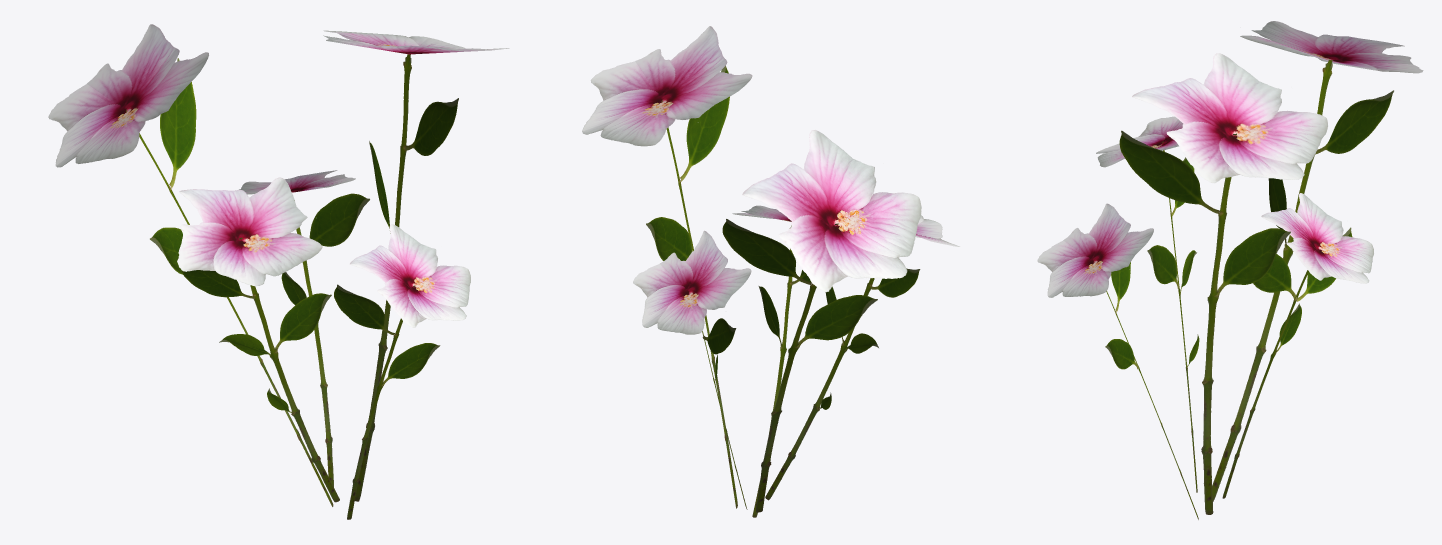
Rendered from WhiteFlower.fbx.
3 views of the same model, side by side, from view 1: azimuth 30°, elevation 25°; view 2: azimuth 150°, elevation 25°; view 3: azimuth 270°, elevation 25° (orthographic). The views are drawn at different scales.
Visible parts, largest first — view 1: Leaf6.002; view 2: Leaf6.002; view 3: Leaf6.002.
Boxes of the visible parts, x1=… form: Leaf6.002: x1=48, y1=24, x2=509, y2=519; Leaf6.002: x1=582, y1=26, x2=959, y2=517; Leaf6.002: x1=1037, y1=21, x2=1423, y2=519.
Size of the model in its own units: 75.57 by 81.86 by 64.68.
